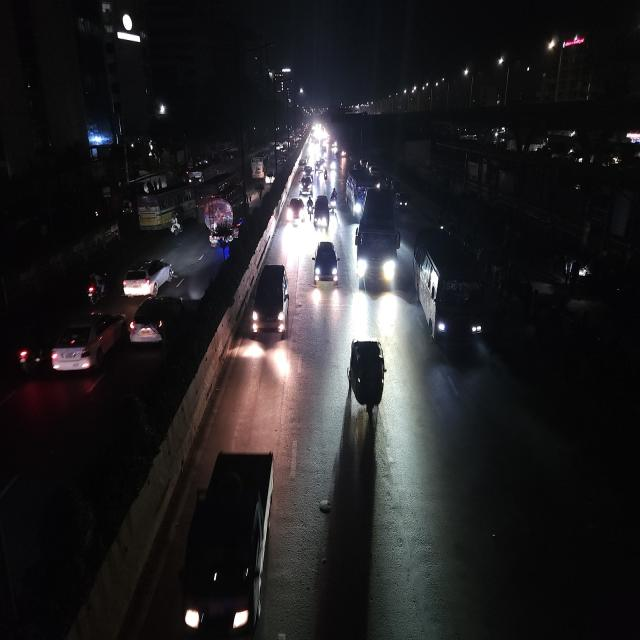bus: (412, 226, 484, 356), (352, 185, 402, 292), (133, 177, 200, 231), (344, 168, 376, 220), (250, 151, 268, 183)
car: (46, 308, 125, 381), (127, 286, 193, 355), (248, 258, 292, 344), (120, 255, 179, 299), (311, 238, 340, 290), (312, 192, 330, 230), (286, 194, 305, 228), (300, 172, 314, 195)
cng: (176, 446, 281, 638), (346, 333, 388, 422), (394, 186, 411, 215)
motorcycle: (84, 270, 106, 304), (167, 214, 183, 239), (330, 184, 338, 210), (322, 170, 330, 188)
truck: (202, 180, 246, 243)
